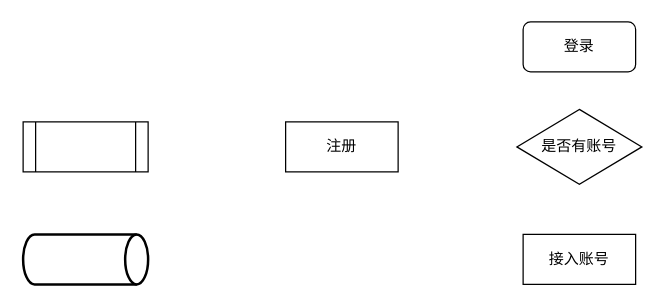
Image size: 664x308. Some labels were removed from this diagram. The shapes that lost their labels are listed below. From the top down, each one's centre as x and y in pixels, then its label:
pixel 85 146: 输入账号
pixel 85 258: 数据库系统
